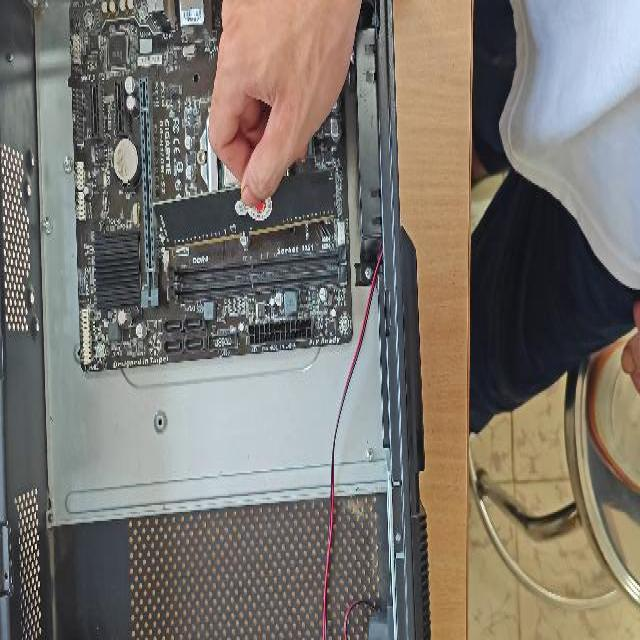Mainboard: (66, 0, 354, 372)
RAM: (152, 161, 336, 251)
